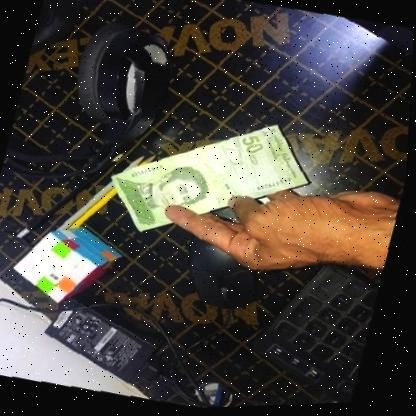fifty-front-vef: (96, 89, 328, 271)
